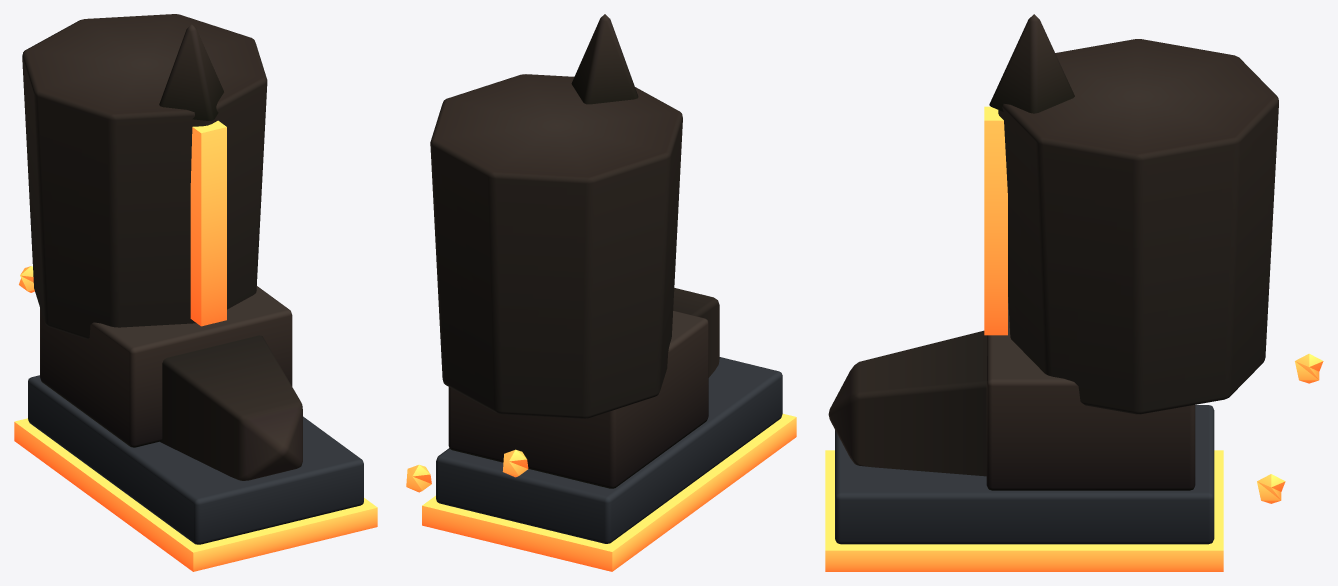
Rendered from lg_emberstride_greaves.glb.
3 renders of one model, left to right at view 1: azimuth 30°, elevation 25°; view 2: azimuth 150°, elevation 25°; view 3: azimuth 270°, elevation 25°, orthographic. The views are drawn at different scales.
Visible parts, largest first — view 1: lg_emberstride_greaves, lg_emberstride_greaves_glow; view 2: lg_emberstride_greaves, lg_emberstride_greaves_glow; view 3: lg_emberstride_greaves, lg_emberstride_greaves_glow.
Part boxes in pixels (x1,y1,x2,y2): lg_emberstride_greaves: [22, 14, 363, 544]; lg_emberstride_greaves_glow: [14, 120, 377, 571]; lg_emberstride_greaves: [430, 14, 782, 543]; lg_emberstride_greaves_glow: [406, 413, 796, 571]; lg_emberstride_greaves: [828, 14, 1278, 544]; lg_emberstride_greaves_glow: [825, 106, 1323, 571].
Bounding box in the file's own units: 0.5934 × 1.18 × 1.05.
